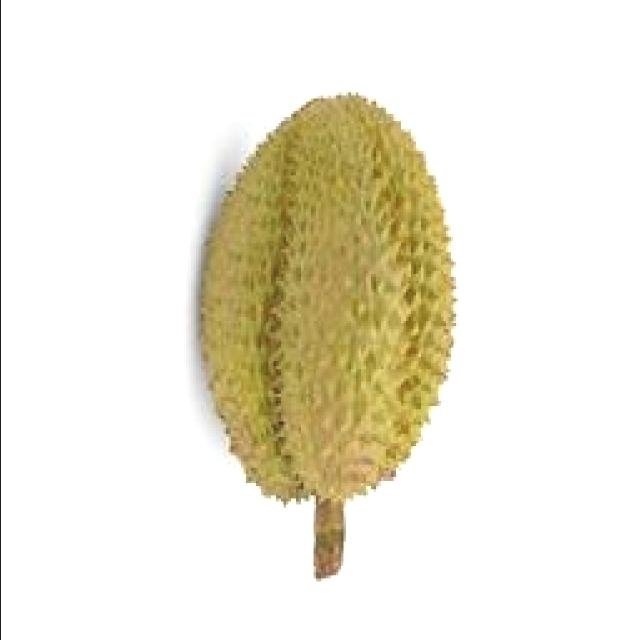agrume: (160, 89, 482, 526)
